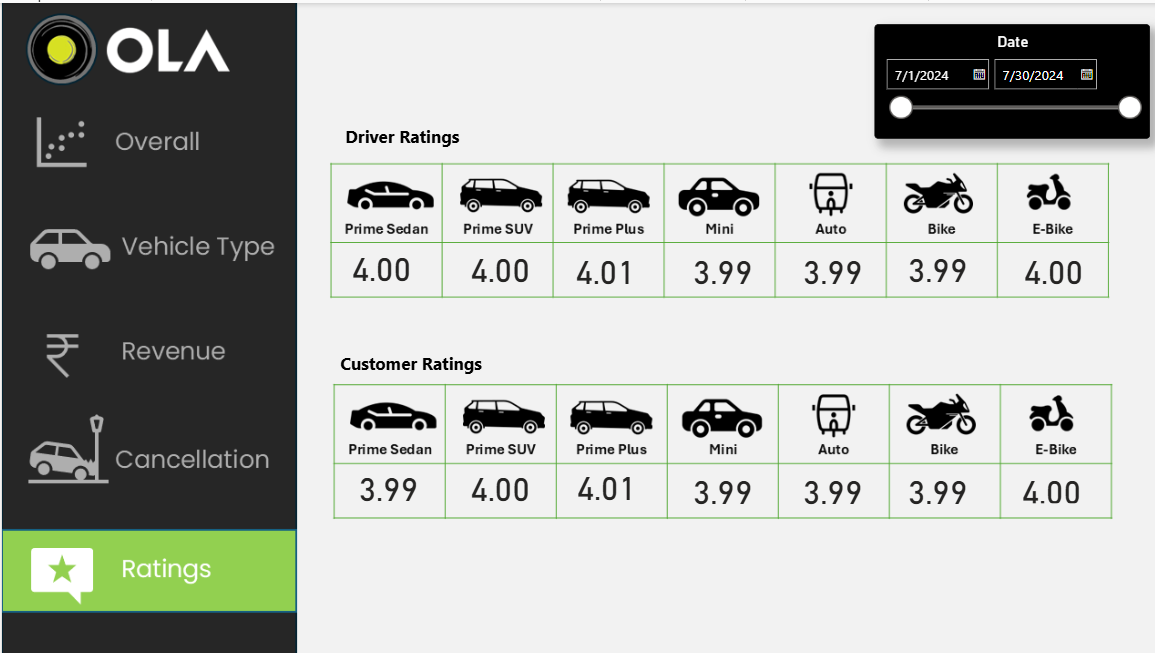

This screenshot's page, from the dashboard's own definition file:
{"tool":"powerbi","page":{"name":"Ratings","canvas":[1280,720],"ordinal":4},"visuals":[{"type":"actionButton","box":[0,211,325.3,103.9],"z":0},{"type":"actionButton","box":[0,328.4,325.3,96.7],"z":1000},{"type":"actionButton","box":[0,439.6,325.3,102.9],"z":2000},{"type":"actionButton","box":[0,99.8,325.3,100.8],"z":3000},{"type":"card","fields":{"Values":["Avg(July.Driver_Ratings)"]},"box":[371.7,263,89.8,52],"z":4000},{"type":"card","fields":{"Values":["Avg(July.Driver_Ratings)"]},"box":[502.4,264.6,89.8,52],"z":5000},{"type":"card","fields":{"Values":["Avg(July.Driver_Ratings)"]},"box":[617.3,266.1,89.8,52],"z":6000},{"type":"card","fields":{"Values":["Avg(July.Driver_Ratings)"]},"box":[746.5,266.1,89.8,52],"z":7000},{"type":"card","fields":{"Values":["Avg(July.Driver_Ratings)"]},"box":[867.7,266.1,89.8,52],"z":8000},{"type":"card","fields":{"Values":["Avg(July.Driver_Ratings)"]},"box":[982.7,264.6,89.8,52],"z":9000},{"type":"card","fields":{"Values":["Avg(July.Driver_Ratings)"]},"box":[1107.1,266.1,94.5,52],"z":10000},{"type":"textbox","box":[371.7,129.1,149.6,42.5],"z":11000},{"type":"textbox","box":[366.4,360.9,189.4,52.1],"z":12000},{"type":"card","fields":{"Values":["Avg(July.Customer_Rating)"]},"box":[373.2,503.9,102.4,53.5],"z":13000},{"type":"card","fields":{"Values":["Avg(July.Driver_Ratings)"]},"box":[502.4,505.5,89.8,52],"z":14000},{"type":"card","fields":{"Values":["Avg(July.Driver_Ratings)"]},"box":[618.9,503.9,89.8,52],"z":15000},{"type":"card","fields":{"Values":["Avg(July.Driver_Ratings)"]},"box":[746.5,507.1,89.8,52],"z":16000},{"type":"card","fields":{"Values":["Avg(July.Driver_Ratings)"]},"box":[867.7,507.1,89.8,52],"z":17000},{"type":"card","fields":{"Values":["Avg(July.Driver_Ratings)"]},"box":[982.7,507.1,89.8,52],"z":18000},{"type":"card","fields":{"Values":["Avg(July.Driver_Ratings)"]},"box":[1107.1,513.4,89.8,40.9],"z":19000},{"type":"slicer","title":"Date","fields":{"Values":["July.Date"]},"box":[957.5,23.6,302.4,126],"z":20000}]}

Visuals, with their boxes in screenshot pixels (x1, y1, x2, y2), scaled from the page's 1280x720 canvas onto the 1155x653 screenshot:
actionButton: Rect(0, 191, 294, 286)
actionButton: Rect(0, 298, 294, 386)
actionButton: Rect(0, 399, 294, 492)
actionButton: Rect(0, 91, 294, 182)
card - Avg(July.Driver_Ratings): Rect(335, 239, 416, 286)
card - Avg(July.Driver_Ratings): Rect(453, 240, 534, 287)
card - Avg(July.Driver_Ratings): Rect(557, 241, 638, 288)
card - Avg(July.Driver_Ratings): Rect(674, 241, 755, 288)
card - Avg(July.Driver_Ratings): Rect(783, 241, 864, 288)
card - Avg(July.Driver_Ratings): Rect(887, 240, 968, 287)
card - Avg(July.Driver_Ratings): Rect(999, 241, 1084, 288)
textbox: Rect(335, 117, 470, 156)
textbox: Rect(331, 327, 502, 375)
card - Avg(July.Customer_Rating): Rect(337, 457, 429, 506)
card - Avg(July.Driver_Ratings): Rect(453, 458, 534, 506)
card - Avg(July.Driver_Ratings): Rect(558, 457, 639, 504)
card - Avg(July.Driver_Ratings): Rect(674, 460, 755, 507)
card - Avg(July.Driver_Ratings): Rect(783, 460, 864, 507)
card - Avg(July.Driver_Ratings): Rect(887, 460, 968, 507)
card - Avg(July.Driver_Ratings): Rect(999, 466, 1080, 503)
"Date" slicer: Rect(864, 21, 1137, 136)
